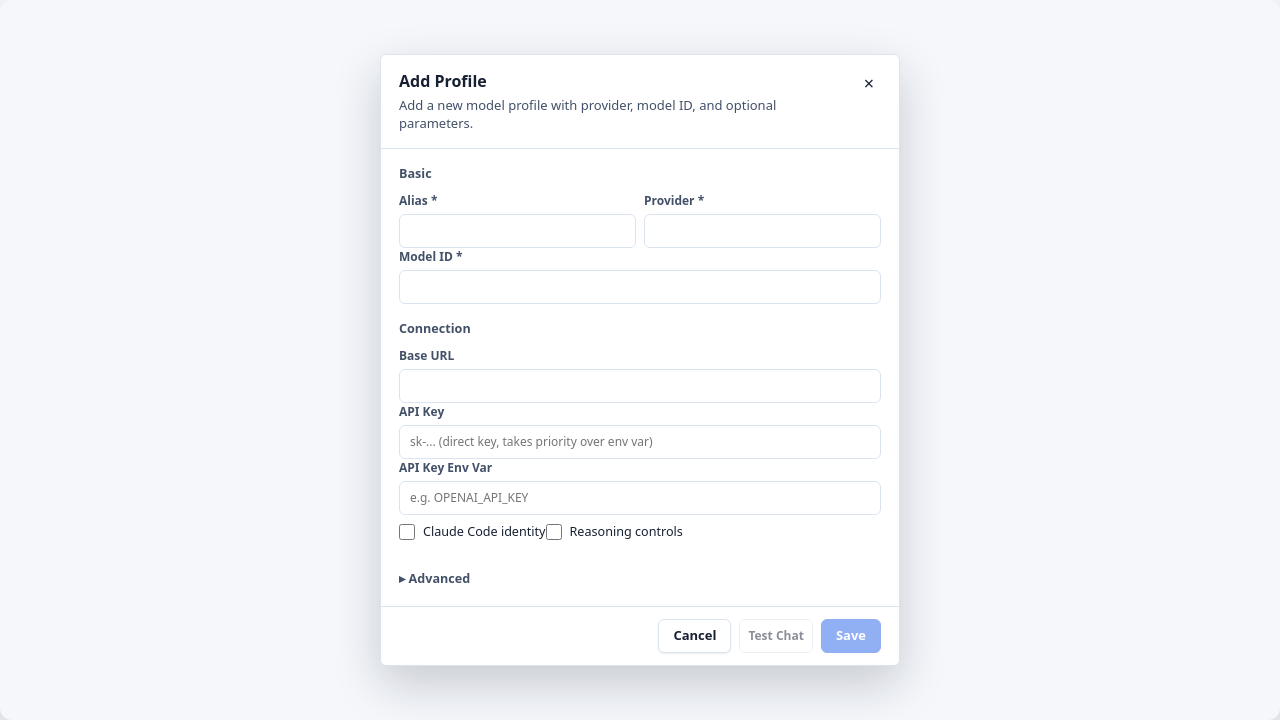
Test: ModelProfileFormDialog › disables add-mode save until alias, provider, and model id are present
Expected: the button with test id "model-save-button" is disabled, [821,619,881,653]
Step 1. Type "local" into the field with test id "model-form-alias" → x=518, y=231, box [399,214,636,248]
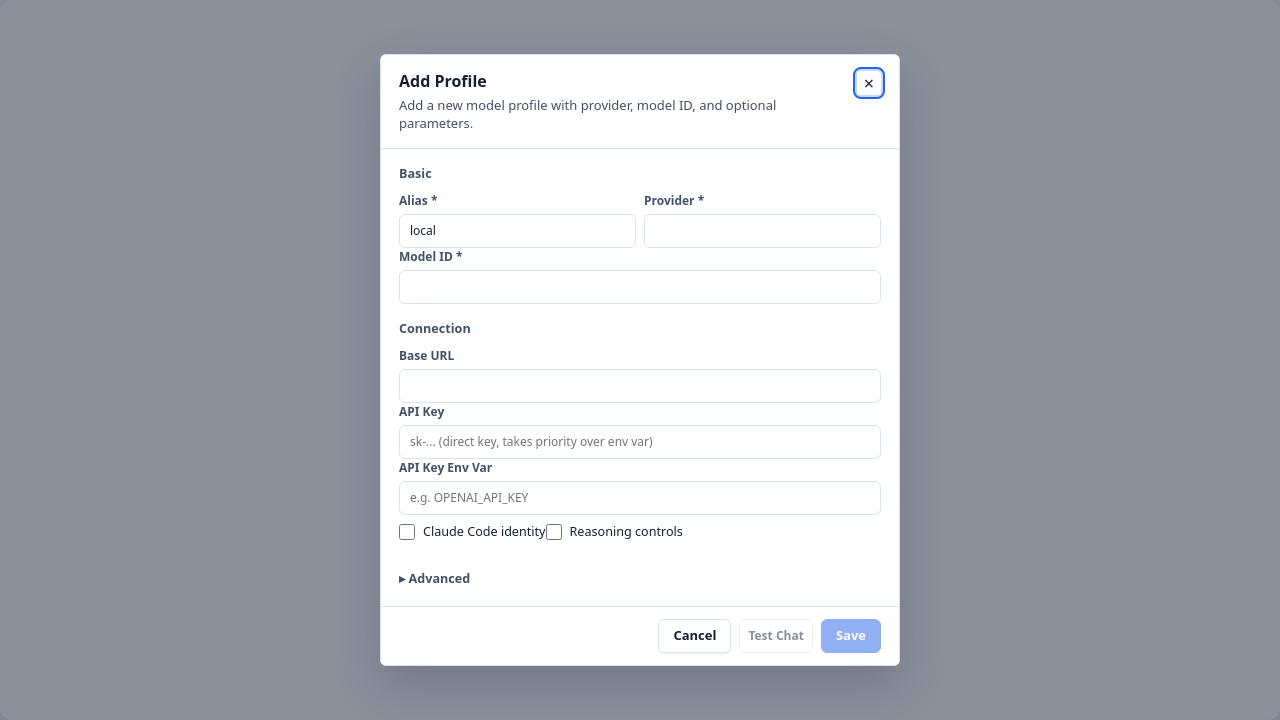
Expected: the button with test id "model-save-button" is disabled, [821,619,881,653]
Step 2. Type "ollama" into the field with test id "model-form-provider" → x=762, y=231, box [644,214,881,248]
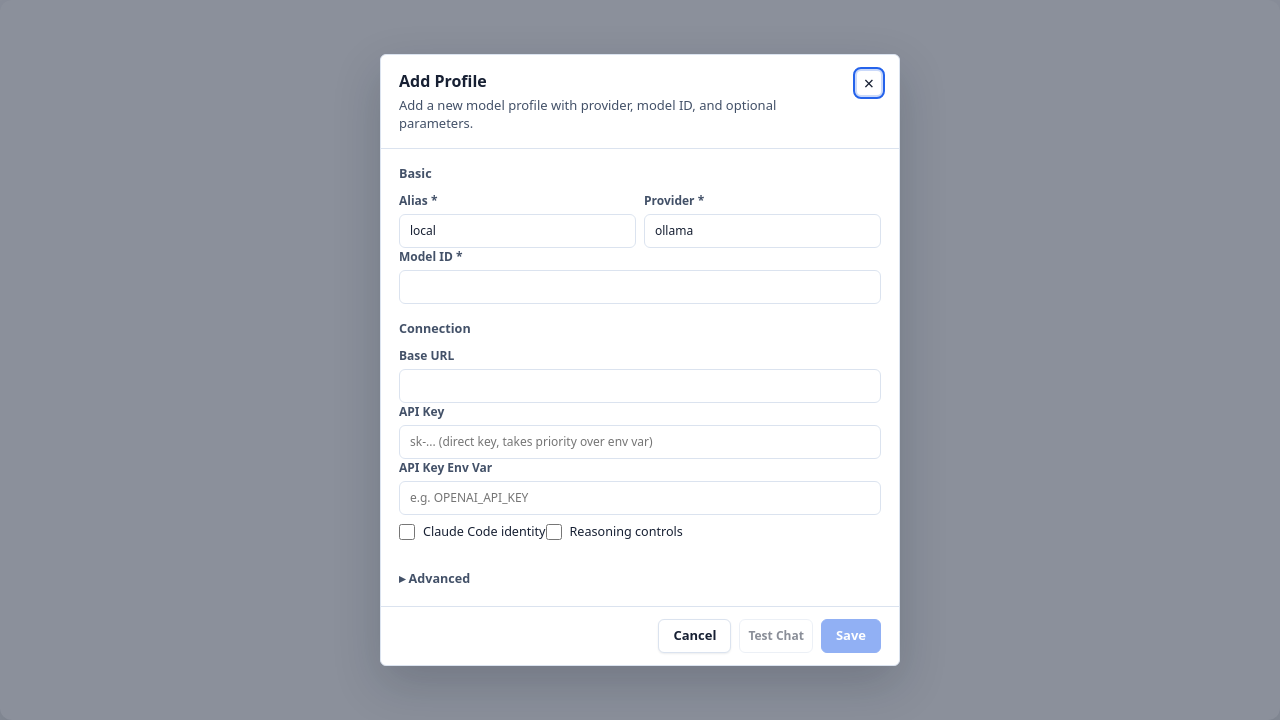
Expected: the button with test id "model-save-button" is disabled, [821,619,881,653]
Step 3. Type "llama3" into the field with test id "model-form-model-id" → x=640, y=287, box [399,270,881,304]
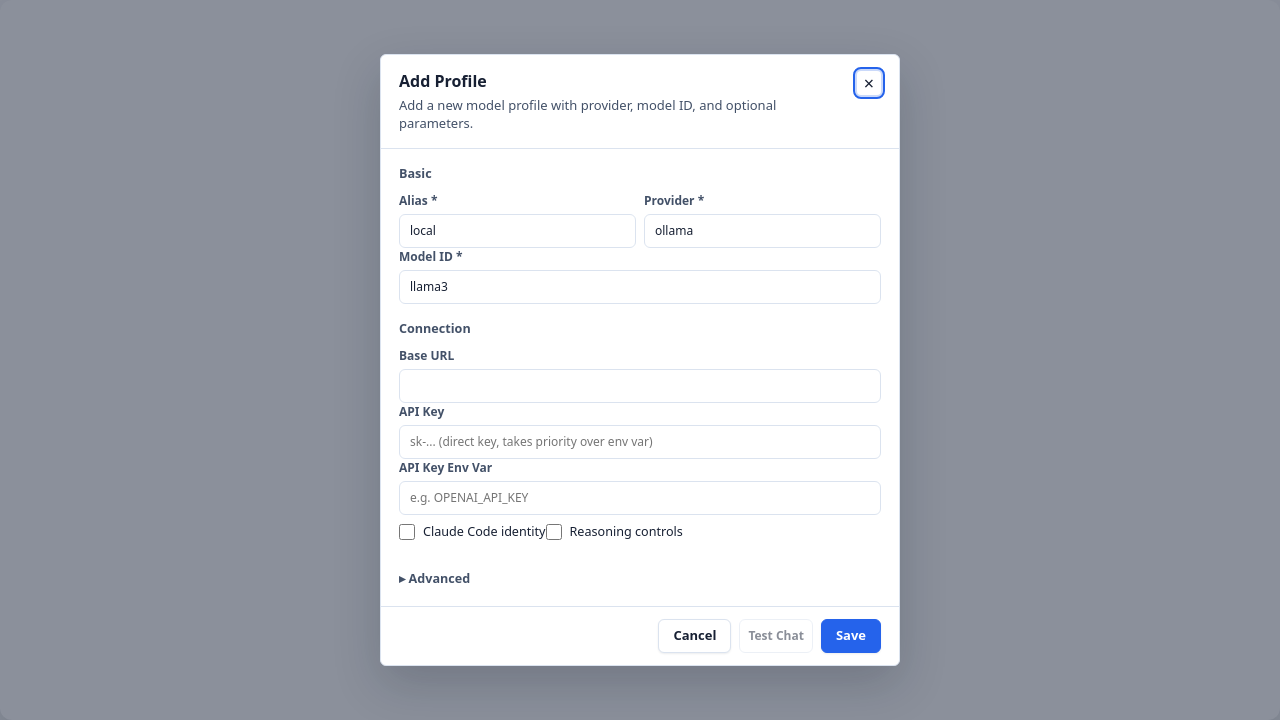
Expected: the button with test id "model-save-button" is enabled, [821,619,881,653]
